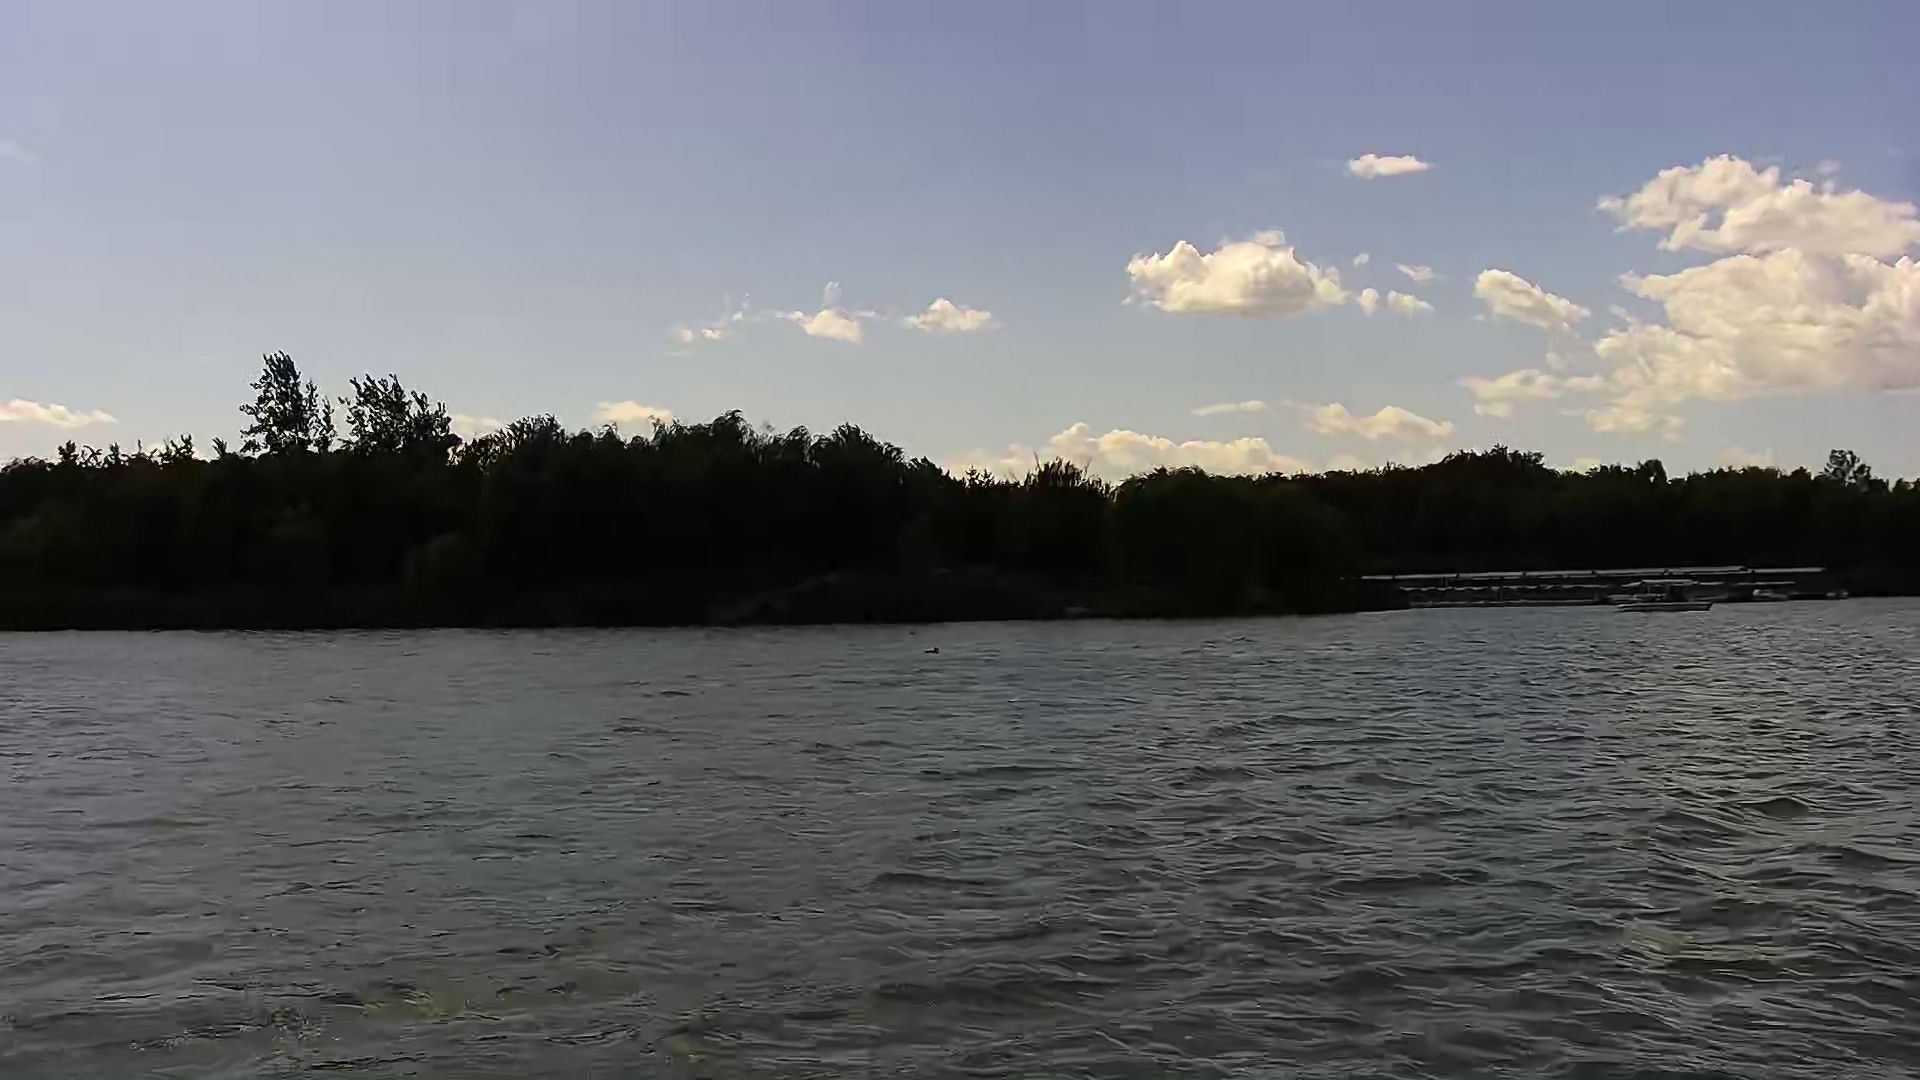boat: (1614, 576, 1724, 617)
harbor: (1352, 566, 1851, 603)
